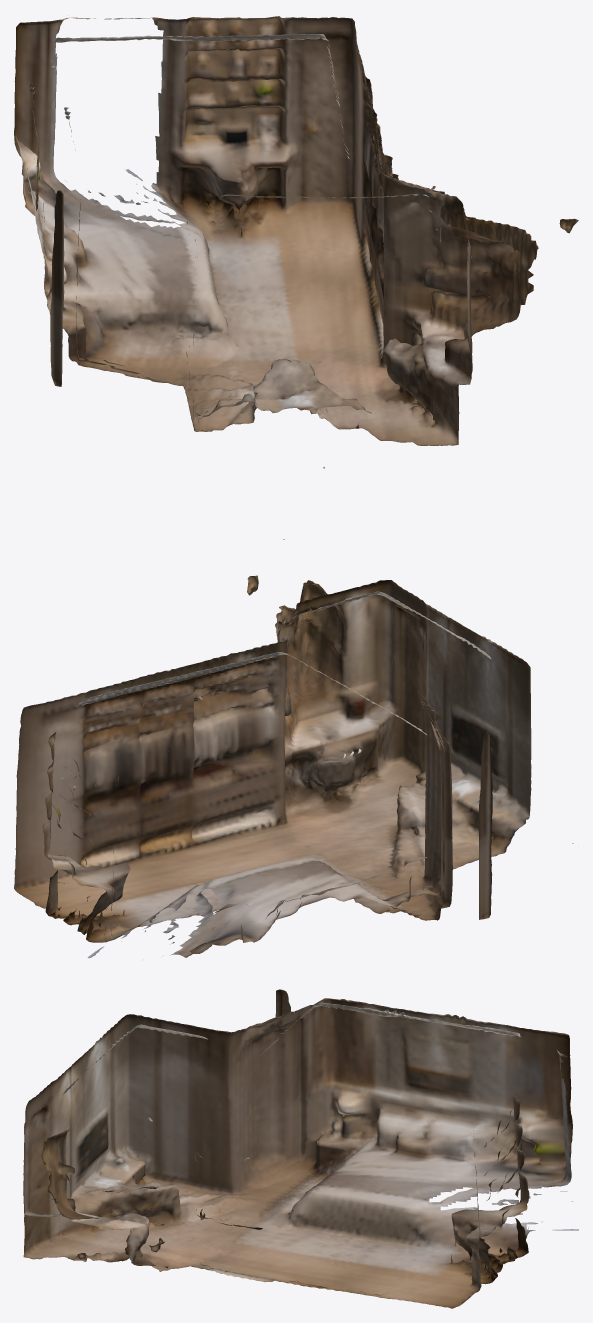
File: Luxury Contemporary Bedroom Interior_collider.glb
3 renders of one model, top to bottom at view 1: azimuth 30°, elevation 25°; view 2: azimuth 150°, elevation 25°; view 3: azimuth 270°, elevation 25°, orthographic. The views are drawn at different scales.
Parts seen in each view (by area): view 1: world; view 2: world; view 3: world.
Part boxes in pixels (box(x1,y1,x2,y2)): world: box(14, 16, 578, 539); world: box(14, 575, 573, 958); world: box(23, 989, 578, 1308).
Bounding box in the file's own units: 6.12 × 3.89 × 8.85.
